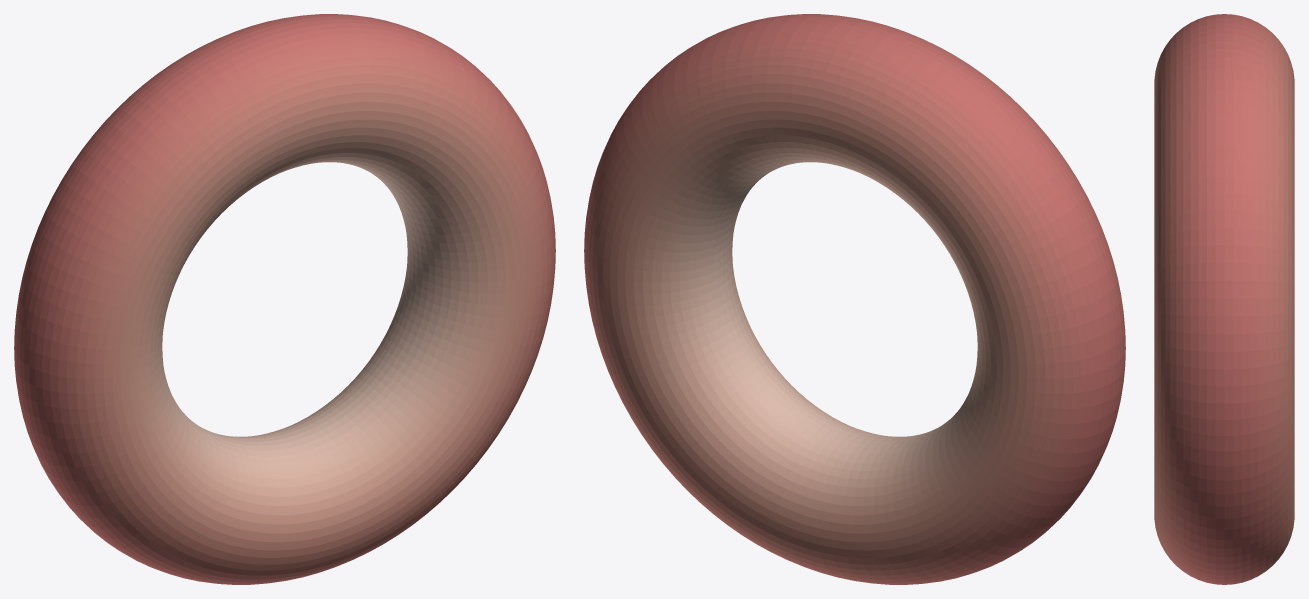
3 renders of one model, left to right at view 1: azimuth 30°, elevation 25°; view 2: azimuth 150°, elevation 25°; view 3: azimuth 270°, elevation 25°, orthographic. The views are drawn at different scales.
Parts seen in each view (by area): view 1: world; view 2: world; view 3: world.
Boxes of the visible parts, x1,y1,x2,y2 form: world: (14, 14, 555, 584); world: (584, 14, 1125, 584); world: (1154, 14, 1294, 584).
Bounding box in the file's own units: 16.8 × 16.8 × 4.13.
